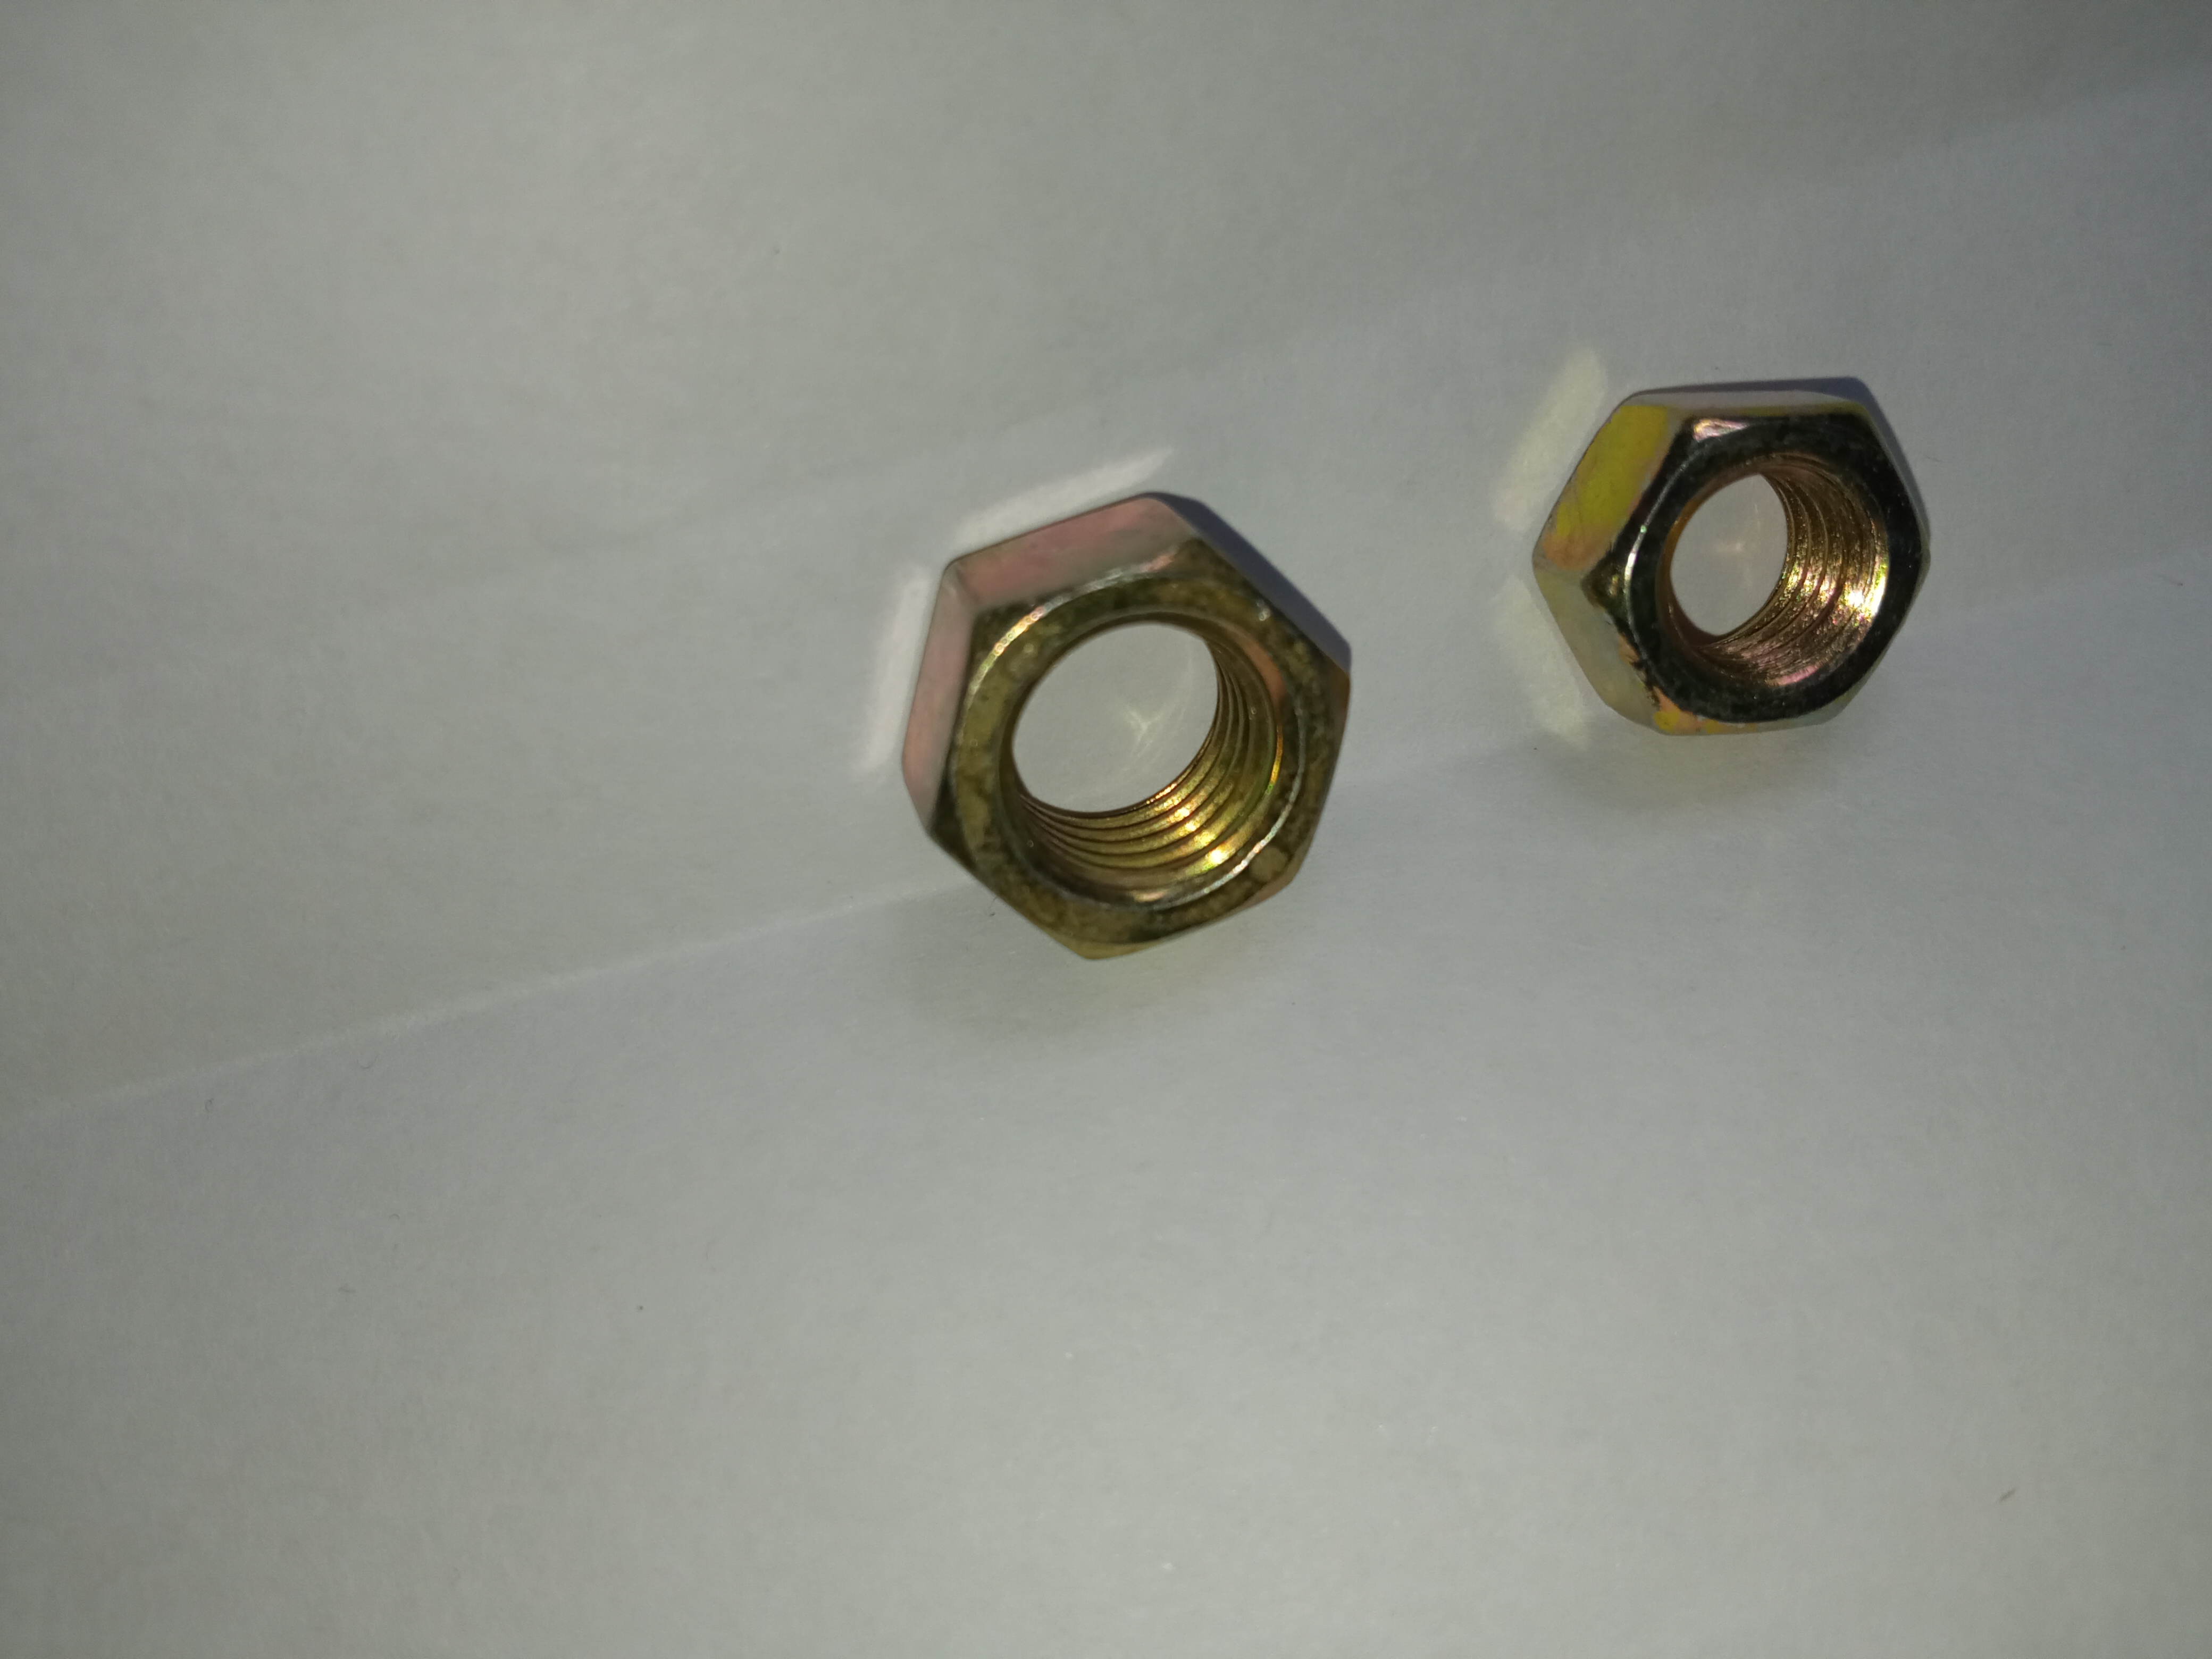m10: (887, 505, 1355, 934)
m8: (1554, 378, 1935, 725)
